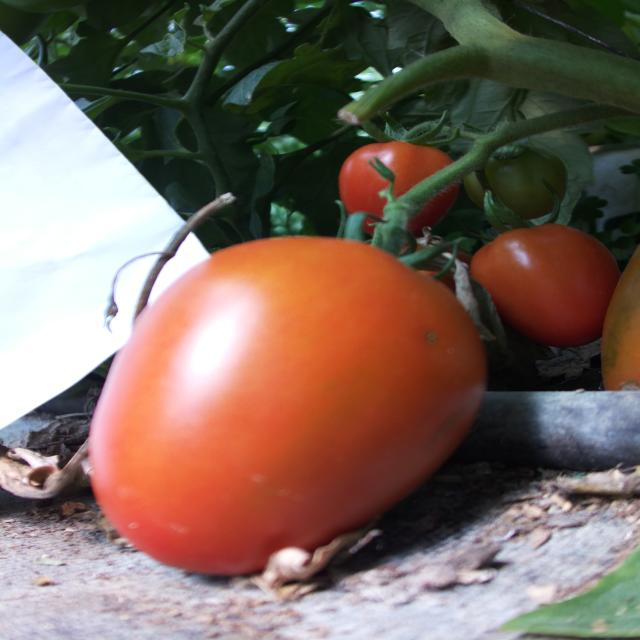kirmizi: (99, 177, 455, 580)
